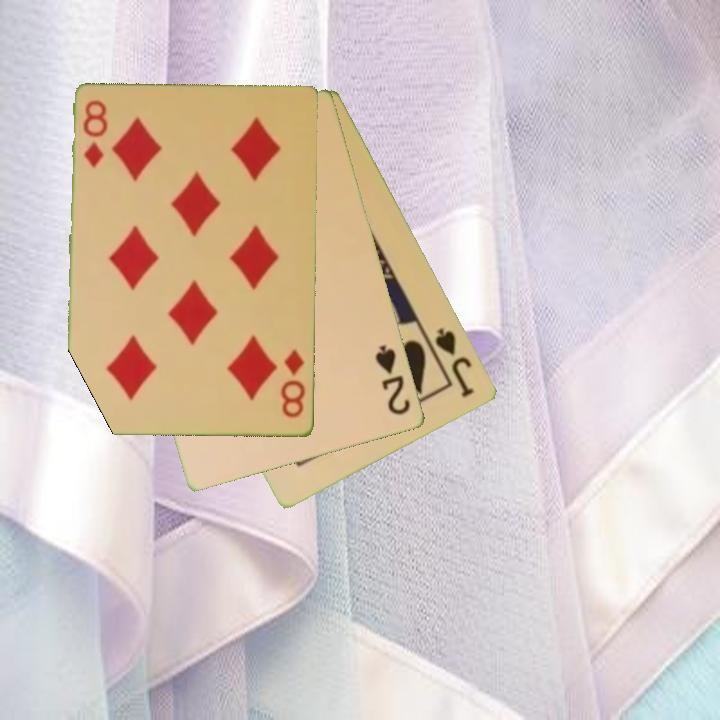2s: (372, 341, 414, 418)
8d: (277, 346, 308, 421), (80, 97, 109, 171)
Js: (432, 324, 478, 401)
